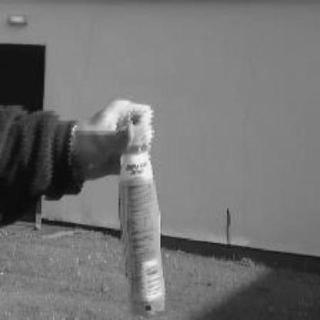other: (116, 118, 170, 310)
